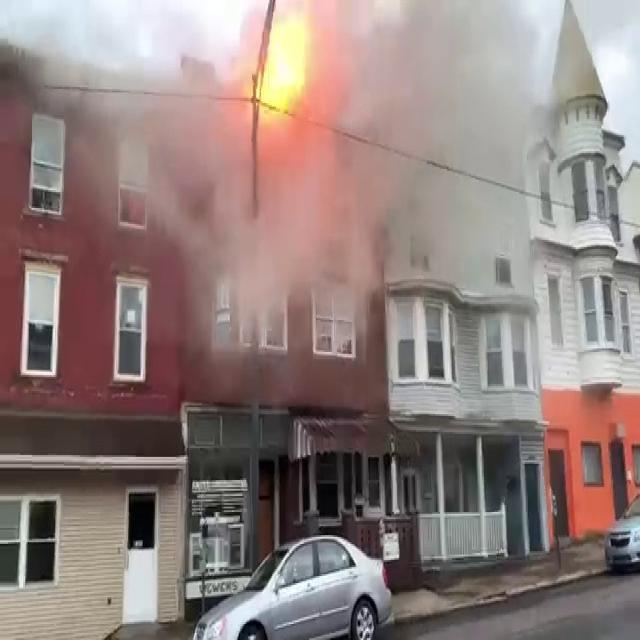Fire: (232, 1, 322, 127)
Smoke: (314, 1, 560, 300)
